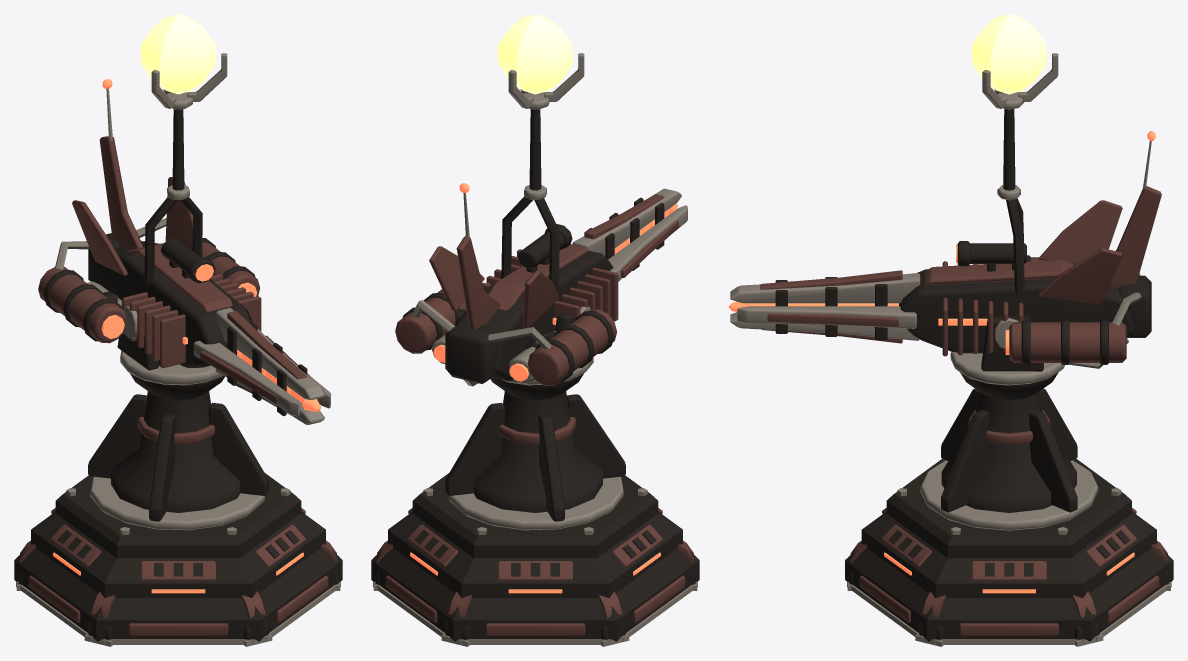
The model's file is tower_rail.glb.
3 views of the same model, side by side, from view 1: azimuth 30°, elevation 25°; view 2: azimuth 150°, elevation 25°; view 3: azimuth 270°, elevation 25° (orthographic).
Parts seen in each view (by area): view 1: base, turret, lvl3, barrel, tower_rail, lvl2; view 2: base, turret, lvl3, tower_rail, barrel, lvl2; view 3: base, turret, lvl3, barrel, tower_rail, lvl2.
Part boxes in pixels (x1,y1,x2,y2): base: [14, 373, 342, 646]; turret: [87, 53, 261, 385]; lvl3: [38, 177, 259, 343]; barrel: [215, 308, 324, 424]; tower_rail: [141, 14, 215, 94]; lvl2: [193, 328, 330, 416]; base: [371, 373, 699, 646]; turret: [431, 53, 618, 386]; lvl3: [395, 246, 616, 385]; tower_rail: [498, 14, 572, 94]; barrel: [572, 188, 681, 270]; lvl2: [608, 205, 687, 281]; base: [845, 372, 1173, 646]; turret: [899, 53, 1161, 385]; lvl3: [1005, 200, 1141, 364]; barrel: [728, 270, 920, 343]; tower_rail: [972, 14, 1046, 94]; lvl2: [737, 306, 916, 328].
Size of the model in its own units: 1.66 by 3.54 by 2.5.
